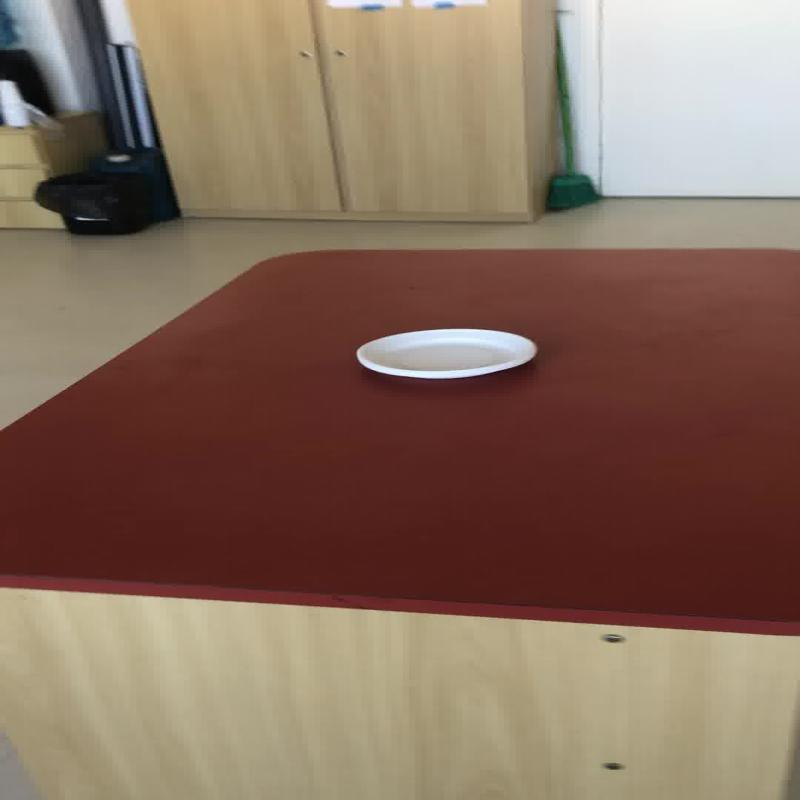plate: (354, 327, 536, 379)
